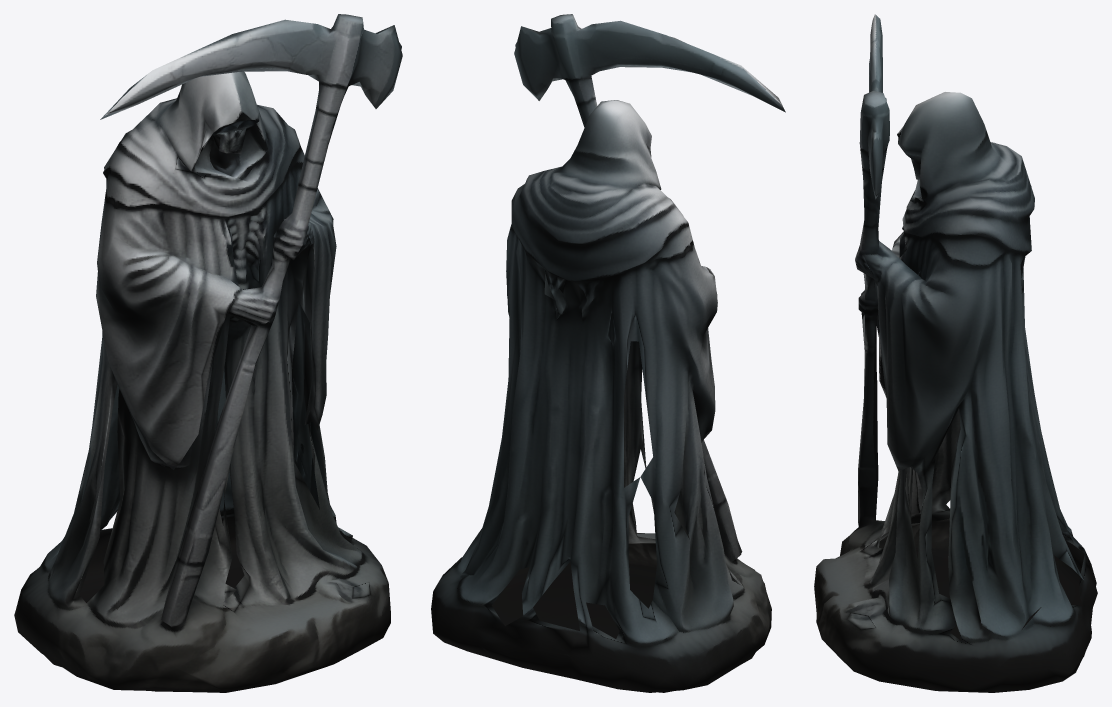
File: the-reaper.glb
3 renders of one model, left to right at view 1: azimuth 30°, elevation 25°; view 2: azimuth 150°, elevation 25°; view 3: azimuth 270°, elevation 25°, orthographic. The views are drawn at different scales.
Visible parts, largest first — view 1: geometry_0; view 2: geometry_0; view 3: geometry_0.
Boxes of the visible parts, box(x1,y1,x2,y2) form: geometry_0: box(14, 14, 402, 692); geometry_0: box(431, 14, 785, 692); geometry_0: box(814, 14, 1097, 692).
Bounding box in the file's own units: 0.5352 × 0.9979 × 0.4444.
1 material, 1 textured.
